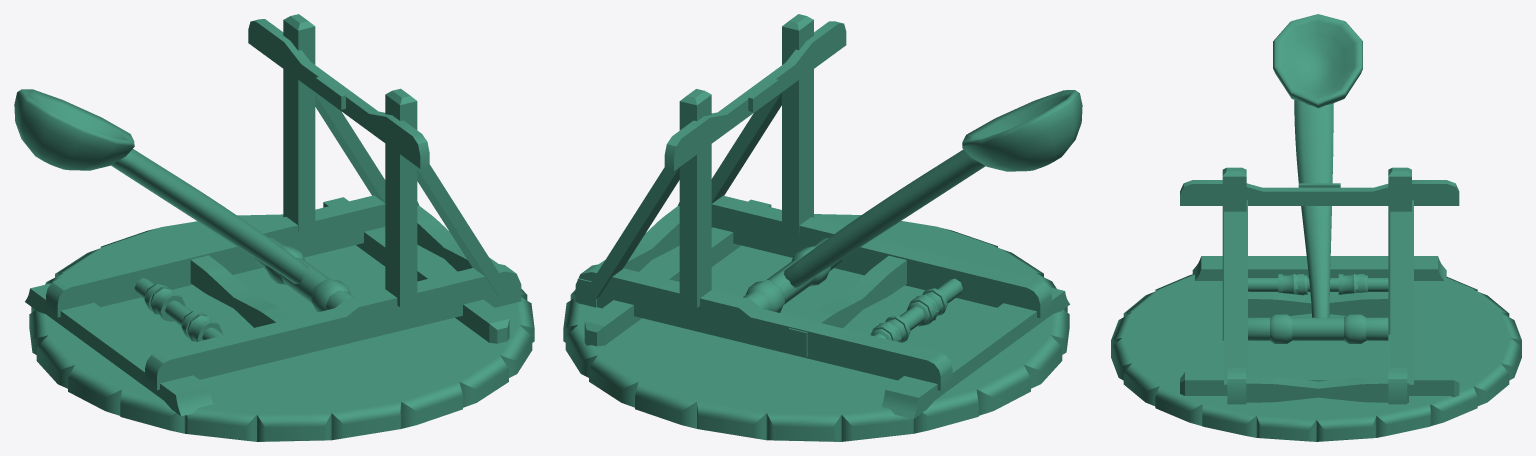
Rendered from Catapult_Isolated_new.fbx.
The picture shows the model from 3 angles, left to right: view 1: azimuth 30°, elevation 25°; view 2: azimuth 150°, elevation 25°; view 3: azimuth 270°, elevation 25°; orthographic projection. The views are drawn at different scales.
Visible parts, largest first — view 1: polySurface180; view 2: polySurface180; view 3: polySurface180.
Boxes of the visible parts, bbox=[...] form: polySurface180: bbox=[14, 14, 534, 441]; polySurface180: bbox=[563, 14, 1082, 441]; polySurface180: bbox=[1111, 14, 1521, 441].
Size of the model in its own units: 0.3533 by 0.2147 by 0.3241.
